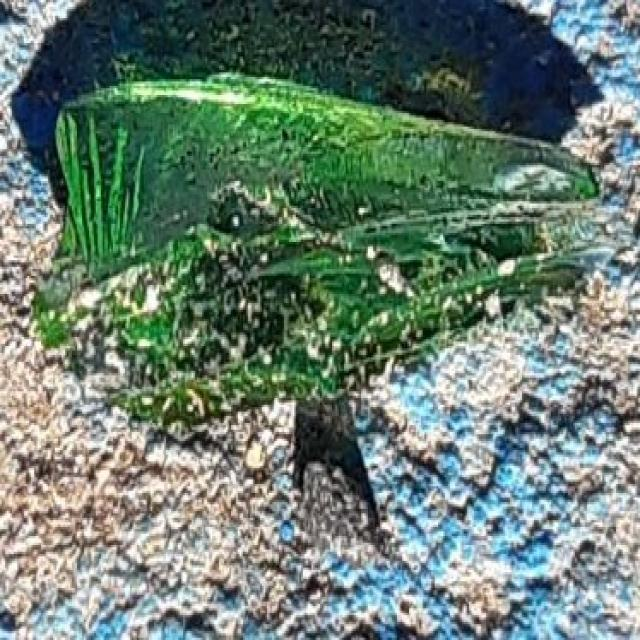Dry: (57, 73, 581, 381)
